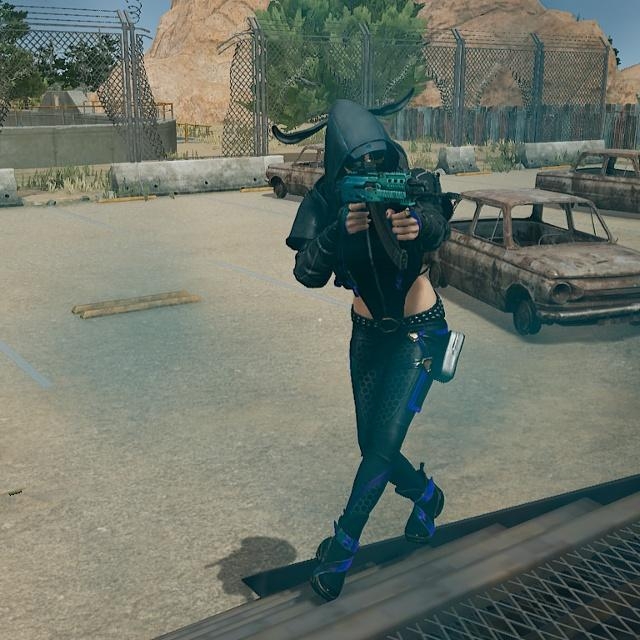head: (320, 93, 404, 191)
people: (229, 55, 482, 615)
